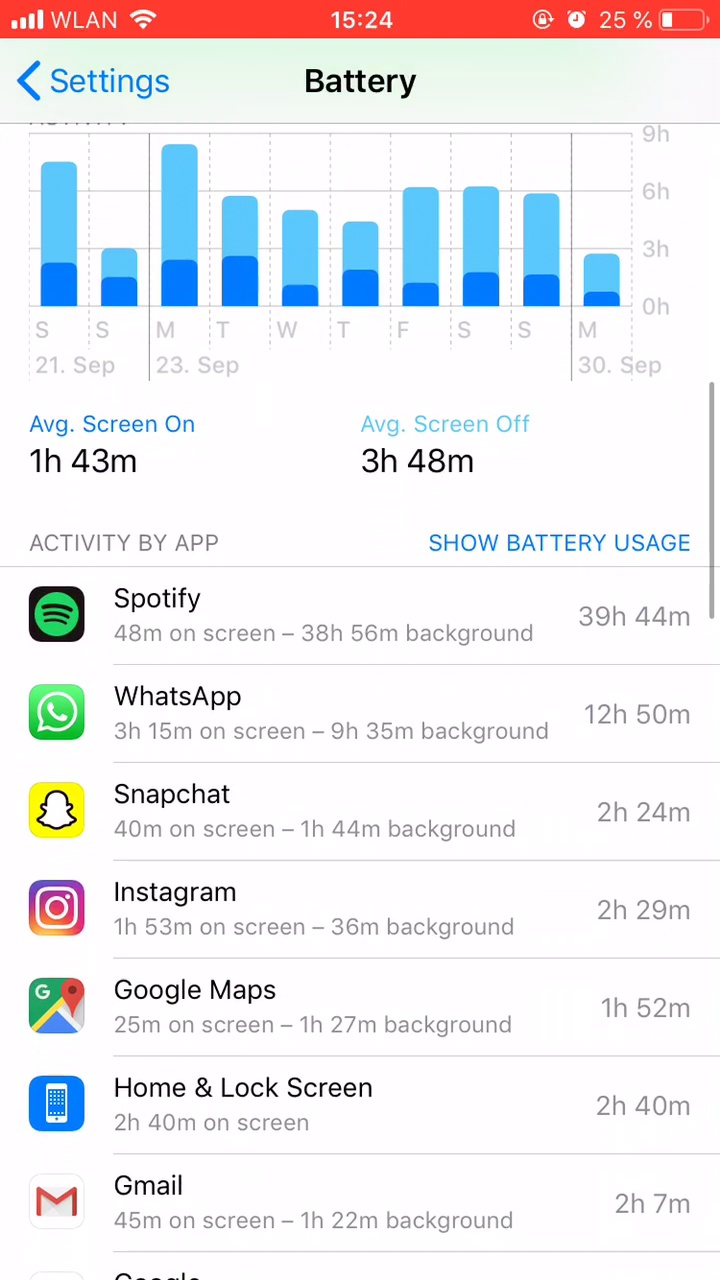app: (21, 578, 702, 655), (19, 671, 700, 748), (19, 773, 700, 850), (22, 869, 703, 946), (19, 971, 700, 1048), (20, 1064, 701, 1141), (20, 1164, 701, 1241)
